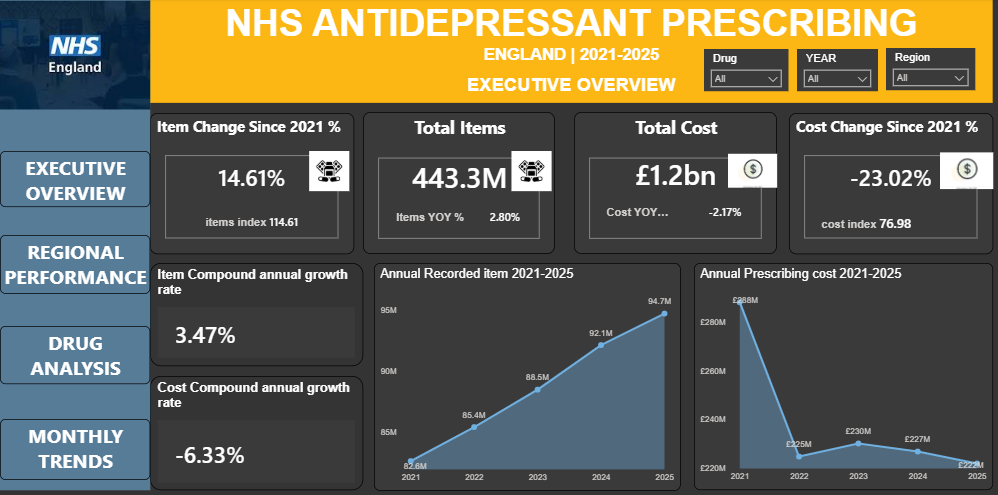

This screenshot's page, from the dashboard's own definition file:
{"tool":"powerbi","page":{"name":"Page 1","canvas":[1450,720],"ordinal":0},"visuals":[{"type":"cardVisual","title":"Total Items","fields":{"Data":["antidepressants_2021_2025_final1.Total  items"]},"box":[524.3,164.6,277.3,205.1],"z":0},{"type":"cardVisual","title":"Total Cost","fields":{"Data":["antidepressants_2021_2025_final1.Total  cost"]},"box":[829,164.6,293.2,205.1],"z":1000},{"type":"cardVisual","title":"Item Change Since 2021 %","fields":{"Data":["antidepressants_2021_2025_final1.ITEMS CHANGE SINCE 2021 %"]},"box":[216.6,166.1,294.6,203.6],"z":2000},{"type":"cardVisual","title":"Cost Change Since 2021 %","fields":{"Data":["antidepressants_2021_2025_final1.COST CHANGE SINCE 2021%"]},"box":[1139.5,166.1,294.6,203.6],"z":3000},{"type":"lineChart","title":"Annual Recorded item 2021-2025","fields":{"Category":["Datetable.year"],"Y":["antidepressants_2021_2025_final1.Total  items"]},"box":[539.7,382,442.6,329.1],"z":4000},{"type":"lineChart","title":"Annual Prescribing cost 2021-2025","fields":{"Category":["Datetable.year"],"Y":["antidepressants_2021_2025_final1.Total  cost"]},"box":[1002.3,382.7,431.8,327.8],"z":5000},{"type":"textbox","box":[216.6,1.4,1217.5,150.2],"z":6000},{"type":"slicer","fields":{"Values":["antidepressants_2021_2025_final1.Drug"]},"box":[1016.7,73.7,122.4,61.2],"z":7000},{"type":"slicer","fields":{"Values":["antidepressants_2021_2025_final1.YEAR"]},"box":[1151,73.7,117.3,61.2],"z":8000},{"type":"slicer","fields":{"Values":["antidepressants_2021_2025_final1.Region"]},"box":[1279.6,72.2,128.8,61.2],"z":9000},{"type":"cardVisual","title":"Item Compound annual growth rate","fields":{"Data":["antidepressants_2021_2025_final1.item cagr"]},"box":[216.9,382,307.7,148.8],"z":10000},{"type":"cardVisual","title":"Cost Compound annual growth rate","fields":{"Data":["antidepressants_2021_2025_final1.cost cagr"]},"box":[216.9,546,307.7,165.2],"z":11000},{"type":"textbox","box":[0,0,216.9,711.1],"z":12000},{"type":"image","box":[0,0,216.6,164.6],"z":13000},{"type":"actionButton","title":"EXECUTIVE OVERVIEW","box":[0,221,216.6,80.9],"z":14000},{"type":"actionButton","title":"REGIONAL PERFORMANCE","box":[0,342.3,216.6,85.2],"z":15000},{"type":"actionButton","title":"DRUG ANALYSIS","box":[0,473.7,216.6,83.8],"z":16000},{"type":"actionButton","title":"MONTHLY TRENDS","box":[0,608,216.6,88.1],"z":17000},{"type":"image","box":[440.5,221,69.3,57.8],"z":18000},{"type":"image","box":[733.7,221,67.9,57.8],"z":19000},{"type":"image","box":[1051.4,221,70.8,57.8],"z":20000},{"type":"image","box":[1357.6,221,76.5,57.8],"z":21000}]}

Visuals, with their boxes in screenshot pixels (x1, y1, x2, y2), scaled from the page's 1450x720 canvas onto the 998x495 screenshot:
"Total Items" cardVisual: rect(361, 113, 552, 254)
"Total Cost" cardVisual: rect(571, 113, 772, 254)
"Item Change Since 2021 %" cardVisual: rect(149, 114, 352, 254)
"Cost Change Since 2021 %" cardVisual: rect(784, 114, 987, 254)
"Annual Recorded item 2021-2025" lineChart: rect(371, 263, 676, 489)
"Annual Prescribing cost 2021-2025" lineChart: rect(690, 263, 987, 488)
textbox: rect(149, 1, 987, 104)
slicer - antidepressants_2021_2025_final1.Drug: rect(700, 51, 784, 93)
slicer - antidepressants_2021_2025_final1.YEAR: rect(792, 51, 873, 93)
slicer - antidepressants_2021_2025_final1.Region: rect(881, 50, 969, 92)
"Item Compound annual growth rate" cardVisual: rect(149, 263, 361, 365)
"Cost Compound annual growth rate" cardVisual: rect(149, 375, 361, 489)
textbox: rect(0, 0, 149, 489)
image: rect(0, 0, 149, 113)
"EXECUTIVE OVERVIEW" actionButton: rect(0, 152, 149, 208)
"REGIONAL PERFORMANCE" actionButton: rect(0, 235, 149, 294)
"DRUG ANALYSIS" actionButton: rect(0, 326, 149, 383)
"MONTHLY TRENDS" actionButton: rect(0, 418, 149, 479)
image: rect(303, 152, 351, 192)
image: rect(505, 152, 552, 192)
image: rect(724, 152, 772, 192)
image: rect(934, 152, 987, 192)
